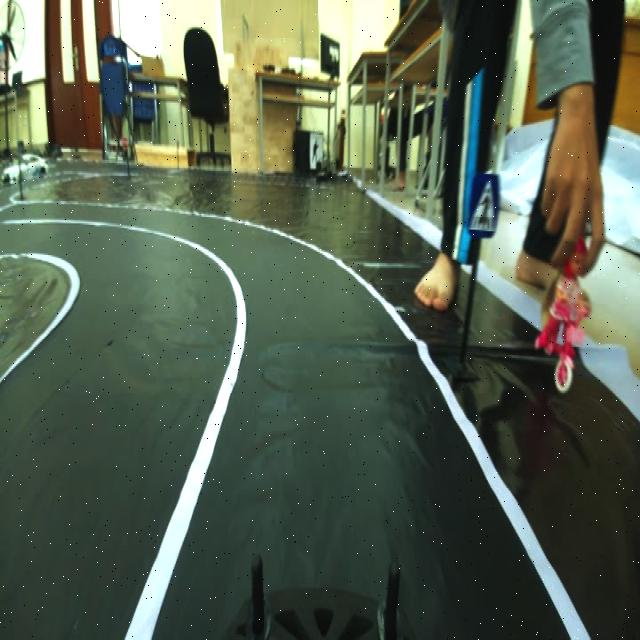crosswalk: (469, 172, 502, 241)
pedestrian: (549, 240, 591, 392)
